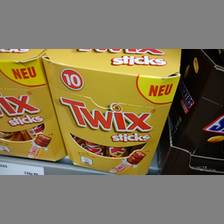chocolate: (43, 50, 180, 173), (1, 49, 68, 163), (172, 50, 224, 171)
